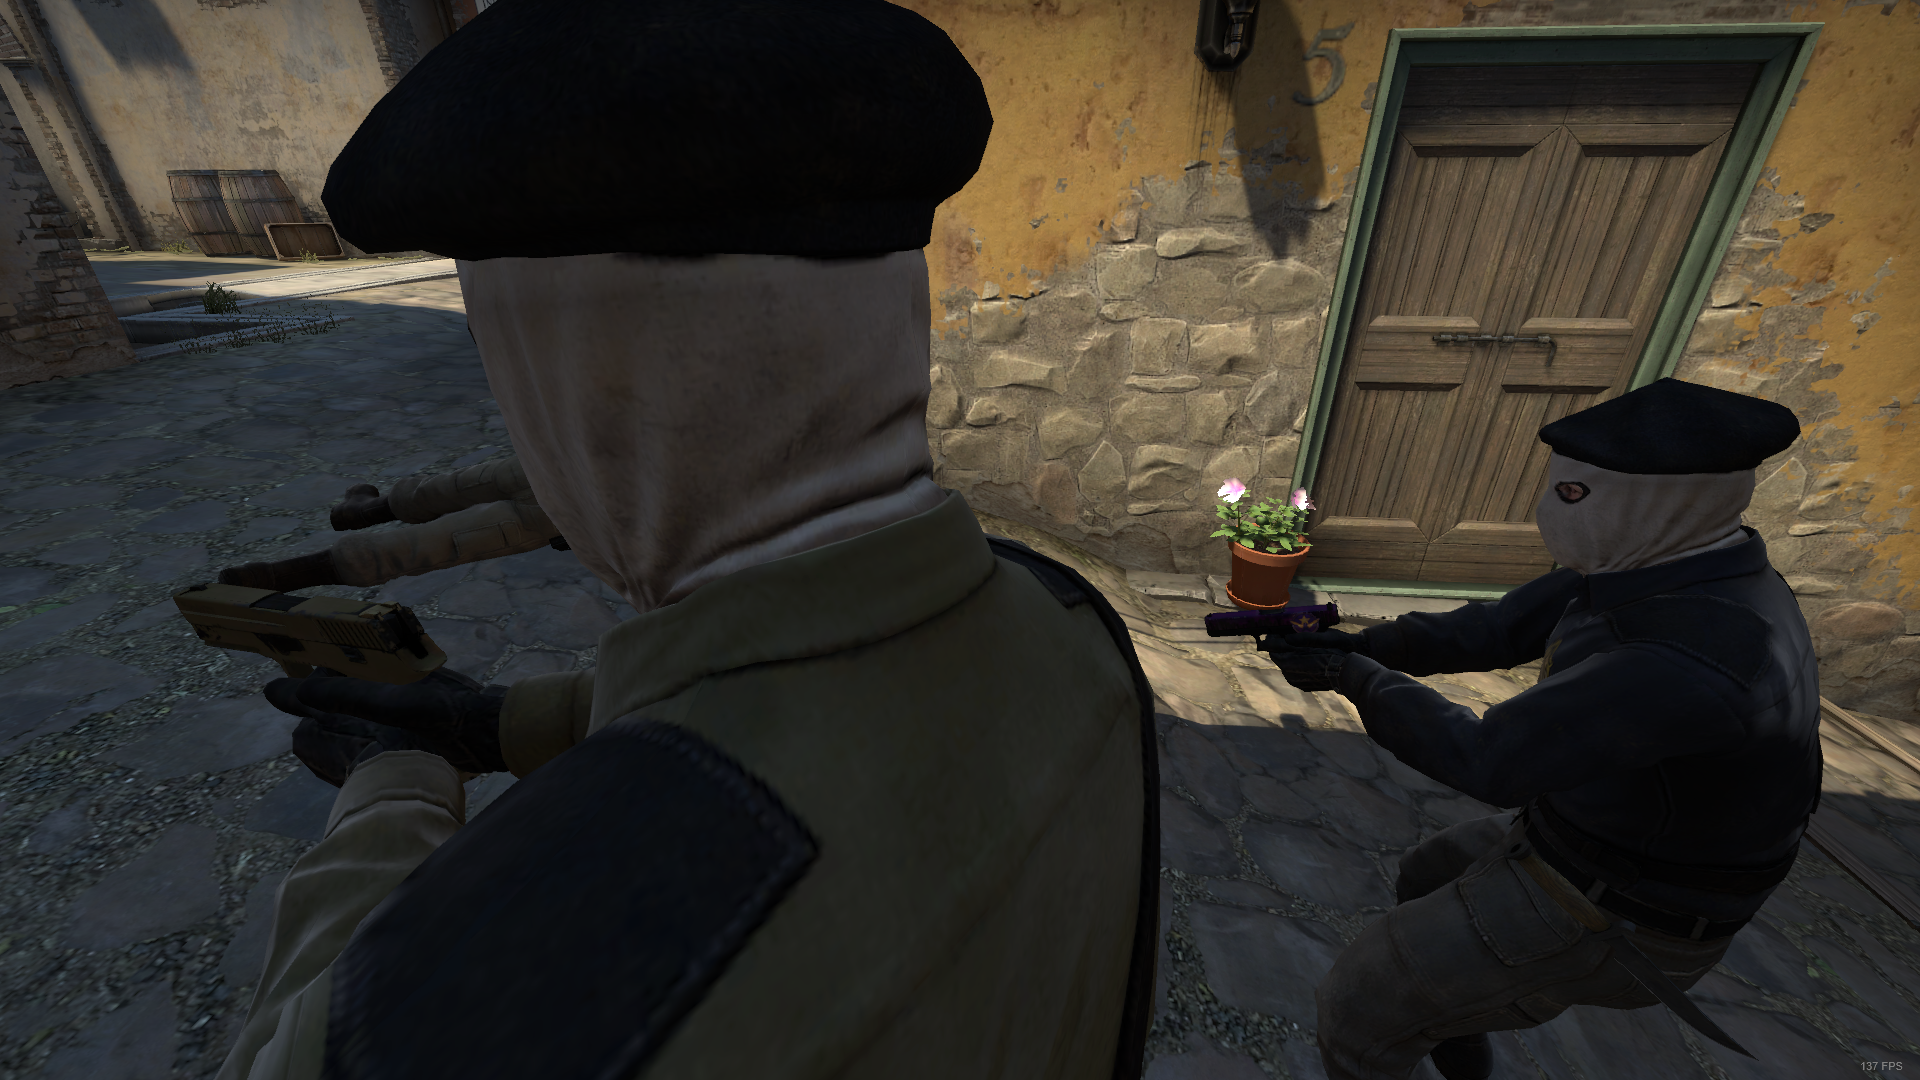t: (218, 1, 1159, 1080), (1280, 376, 1825, 1080)
